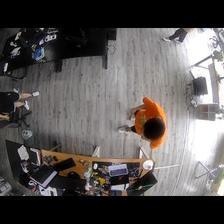normal: (116, 97, 170, 149), (1, 89, 41, 115)
